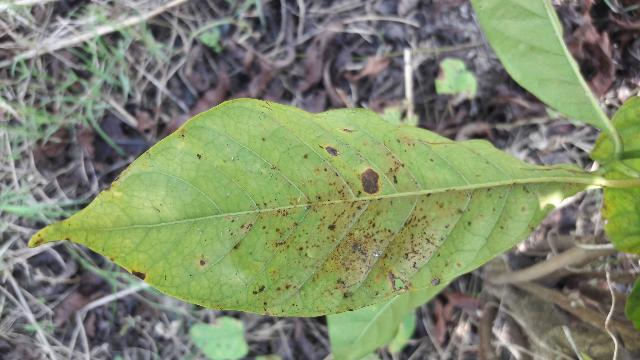red_spider_mite: (28, 96, 607, 315)
